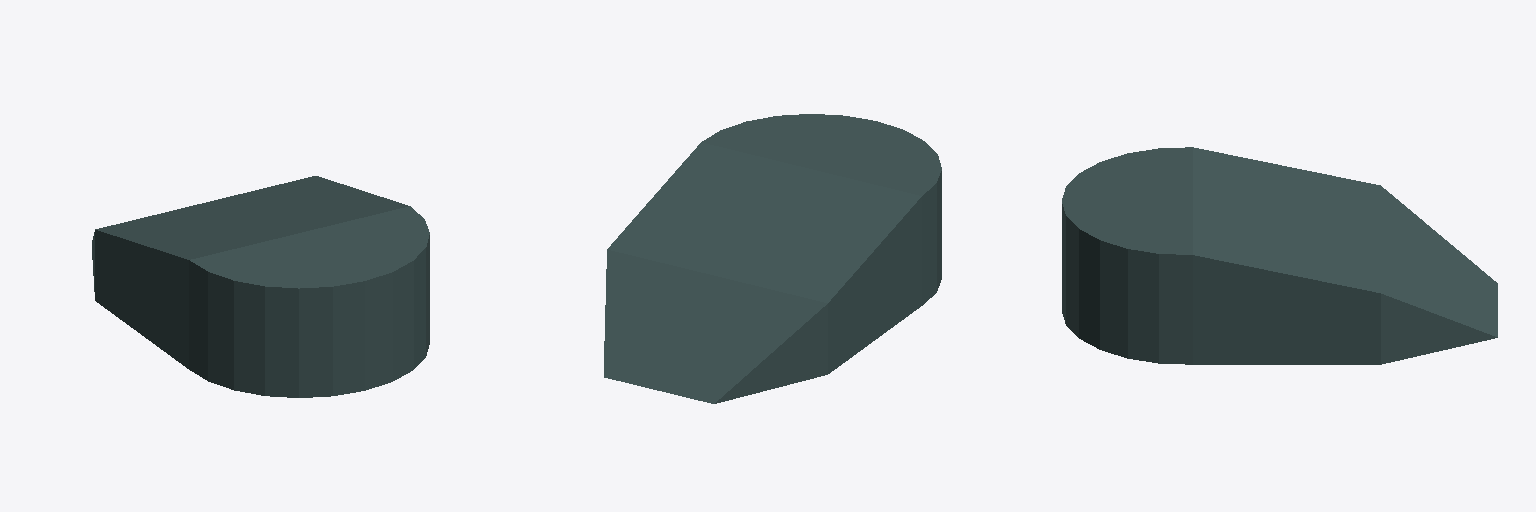
The model's file is computerMouse.obj.
3 renders of one model, left to right at view 1: azimuth 30°, elevation 25°; view 2: azimuth 150°, elevation 25°; view 3: azimuth 270°, elevation 25°, orthographic.
Visible parts, largest first — view 1: computerMouse; view 2: computerMouse; view 3: computerMouse.
Part boxes in pixels (bbox=[...]): computerMouse: bbox=[92, 176, 429, 397]; computerMouse: bbox=[604, 114, 941, 403]; computerMouse: bbox=[1062, 147, 1497, 364].
Bounding box in the file's own units: 0.0497 × 0.0236 × 0.0851.